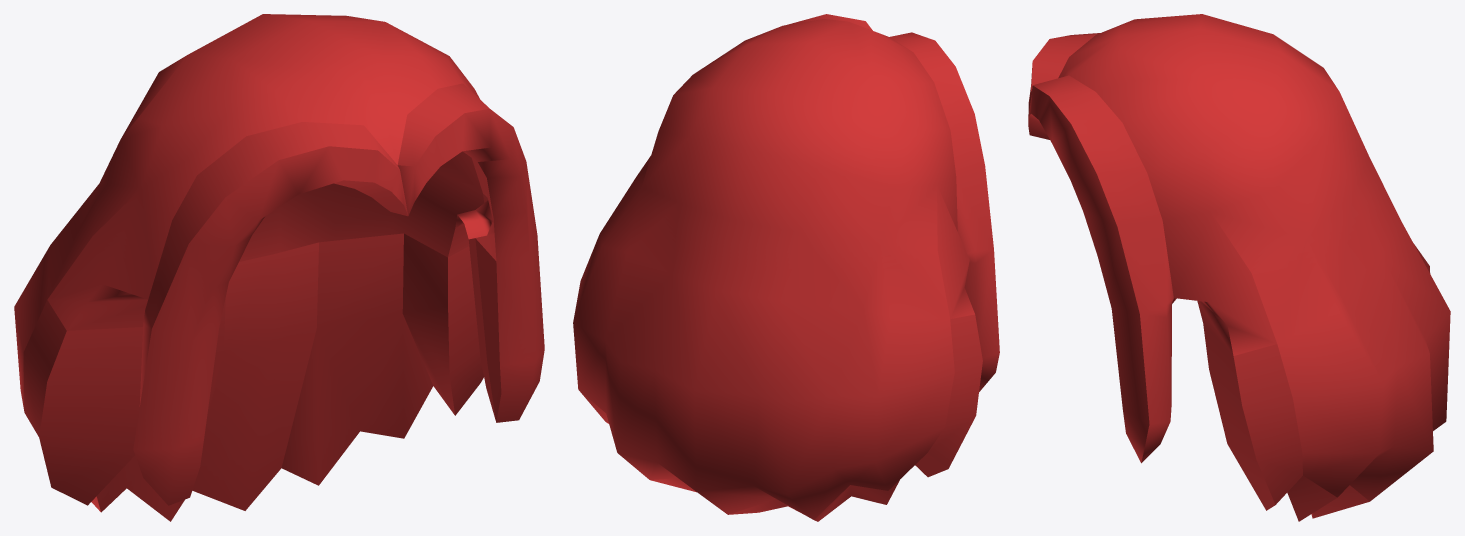
The model's file is Hair_Red_10.fbx.
The picture shows the model from 3 angles, left to right: view 1: azimuth 30°, elevation 25°; view 2: azimuth 150°, elevation 25°; view 3: azimuth 270°, elevation 25°; orthographic projection. The views are drawn at different scales.
Visible parts, largest first — view 1: Hair_Red_10; view 2: Hair_Red_10; view 3: Hair_Red_10.
Boxes of the visible parts, x1,y1,x2,y2 form: Hair_Red_10: [14, 14, 544, 521]; Hair_Red_10: [573, 14, 999, 521]; Hair_Red_10: [1028, 14, 1450, 521].
Bounding box in the file's own units: 74.41 × 80.17 × 66.04.
